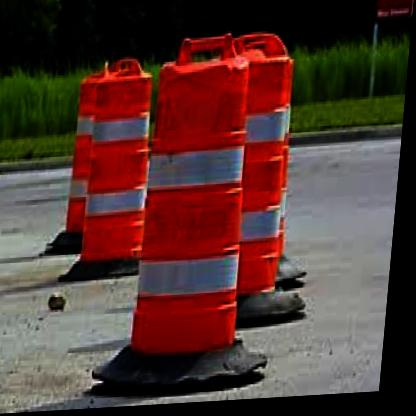obstacle: (133, 35, 268, 359), (87, 62, 160, 263)
